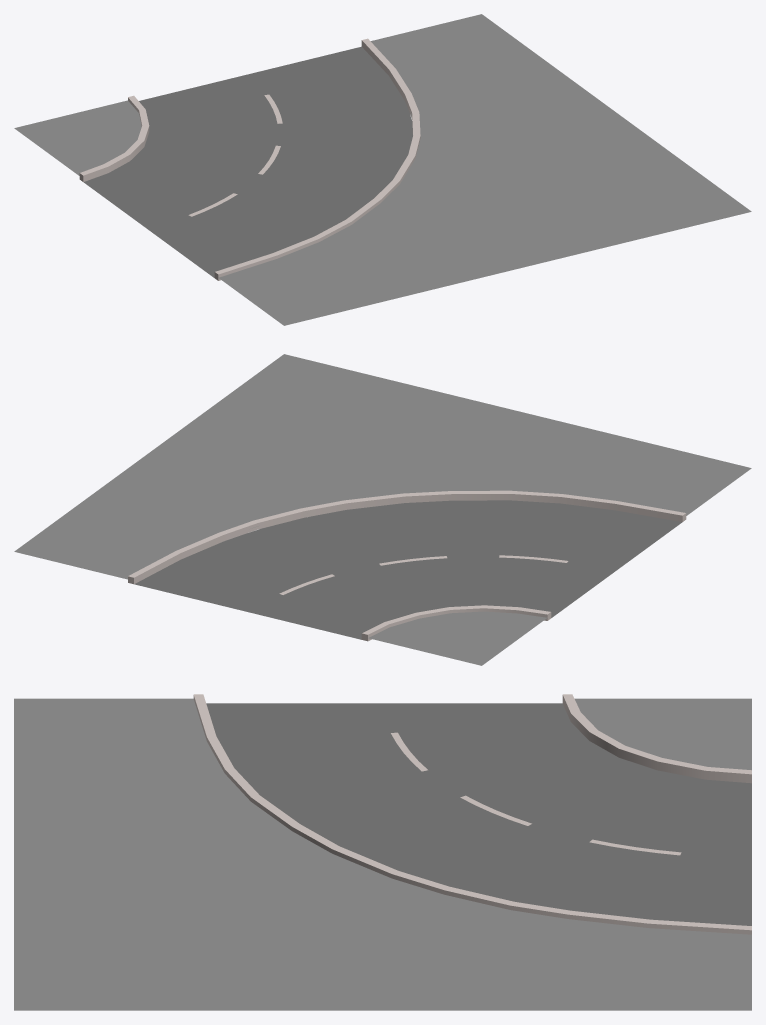
File: road_013.fbx
3 renders of one model, top to bottom at view 1: azimuth 30°, elevation 25°; view 2: azimuth 150°, elevation 25°; view 3: azimuth 270°, elevation 25°, orthographic. The views are drawn at different scales.
Parts seen in each view (by area): view 1: road_013; view 2: road_013; view 3: road_013.
Boxes of the visible parts, <box> form: road_013: <box>14,14,751,325</box>; road_013: <box>14,354,751,665</box>; road_013: <box>14,694,751,1010</box>.
Bounding box in the file's own units: 1500 × 20 × 1500.
